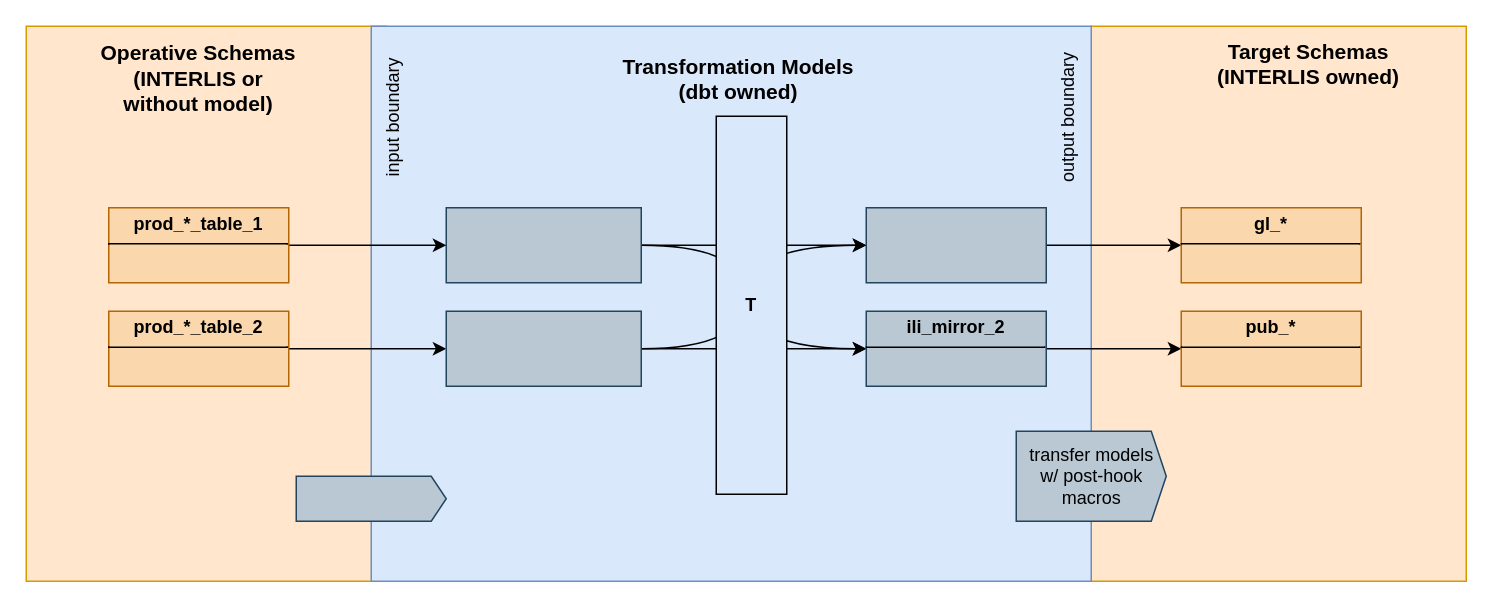
Image size: 1508x608. Some labels were removed from this diagram. The centre of each missing label's shape, as x and y in pixels:
"dbt run" goes at (x=370, y=498).
"ili_mirror_1" goes at (x=955, y=244).
"stg_table_1" goes at (x=543, y=244).
"stg_table_2" goes at (x=543, y=348).
